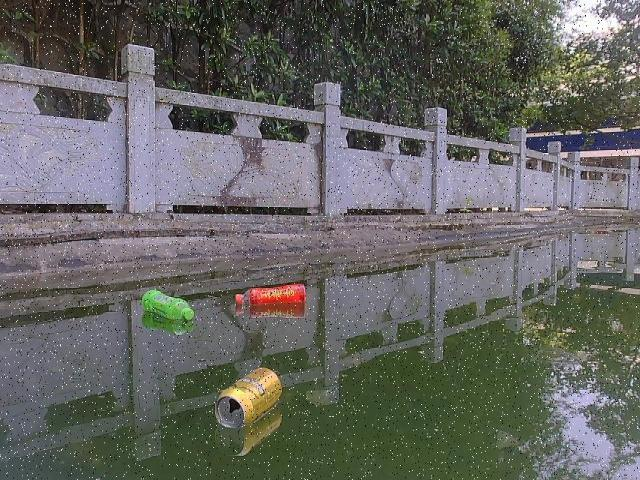Bottle: (230, 280, 313, 317), (138, 284, 198, 324)
Can: (206, 364, 292, 431)
